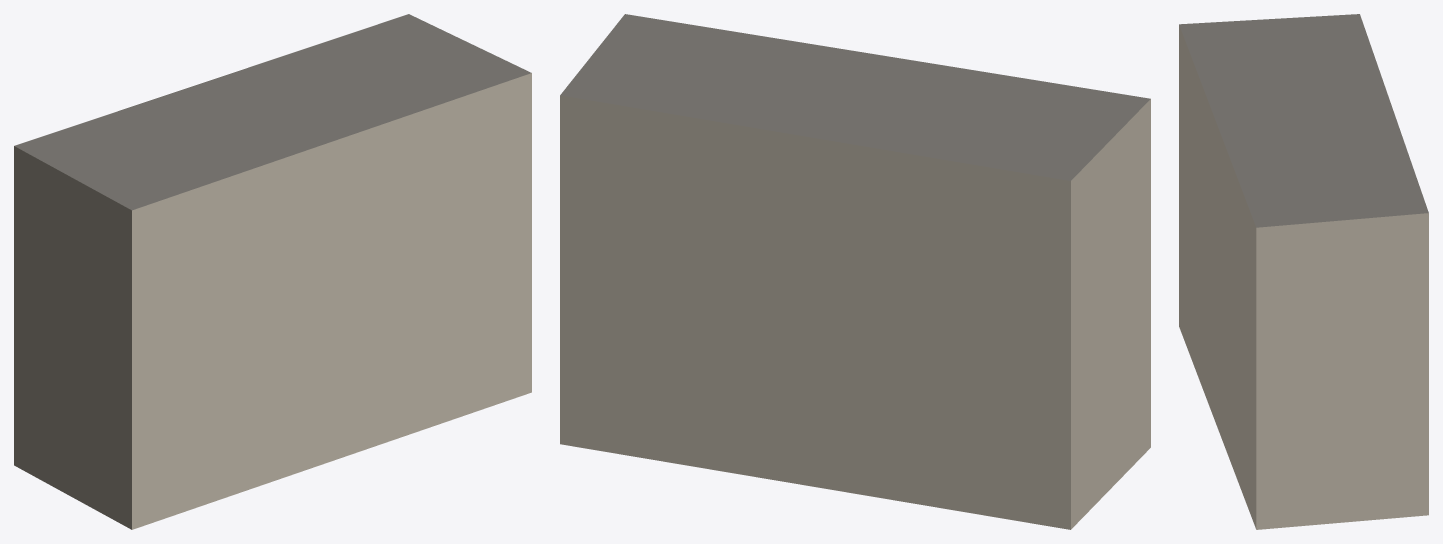
3 renders of one model, left to right at view 1: azimuth 30°, elevation 25°; view 2: azimuth 150°, elevation 25°; view 3: azimuth 270°, elevation 25°, orthographic. The views are drawn at different scales.
Visible parts, largest first — view 1: HP-w505643563; view 2: HP-w505643563; view 3: HP-w505643563.
Boxes of the visible parts, x1=… form: HP-w505643563: x1=14, y1=14, x2=531, y2=529; HP-w505643563: x1=560, y1=14, x2=1150, y2=529; HP-w505643563: x1=1179, y1=14, x2=1428, y2=529.
Bounding box in the file's own units: 18.2 × 12 × 8.99.
